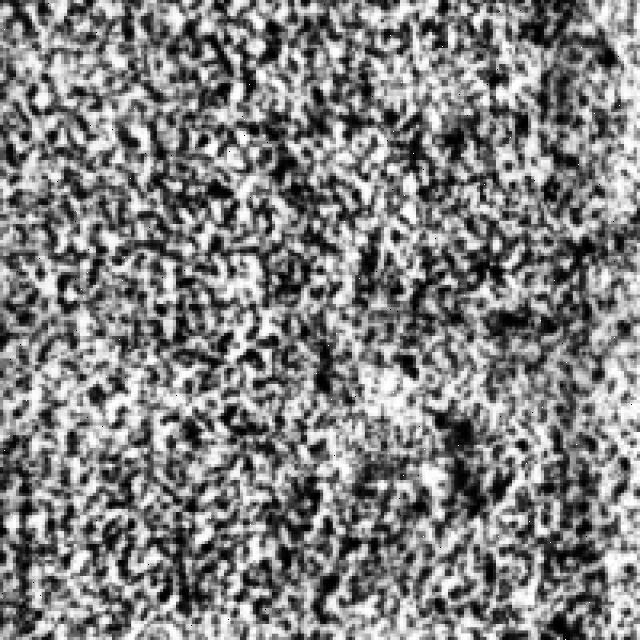Rolled_in_Scale: (12, 26, 630, 634)
